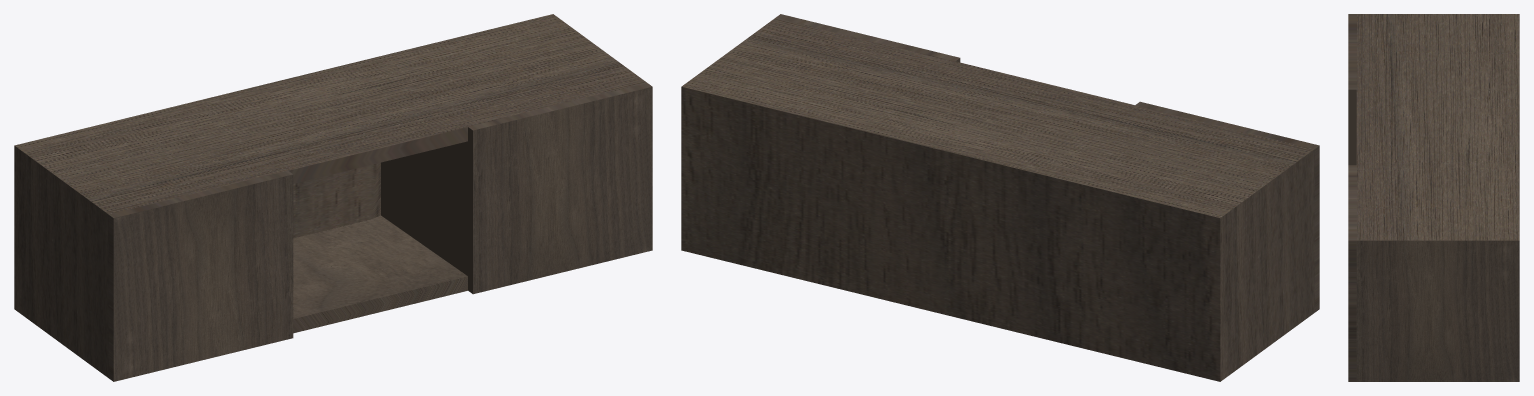
Rendered from Estante Cocina arriba.fbx.
The picture shows the model from 3 angles, left to right: view 1: azimuth 30°, elevation 25°; view 2: azimuth 150°, elevation 25°; view 3: azimuth 270°, elevation 25°; orthographic projection. The views are drawn at different scales.
Parts seen in each view (by area): view 1: Cube.007; view 2: Cube.007; view 3: Cube.007.
Boxes of the visible parts, x1,y1,x2,y2 form: Cube.007: (14,14,652,381); Cube.007: (681,14,1319,381); Cube.007: (1348,14,1519,381).
Bounding box in the file's own units: 786 × 228 × 251.
